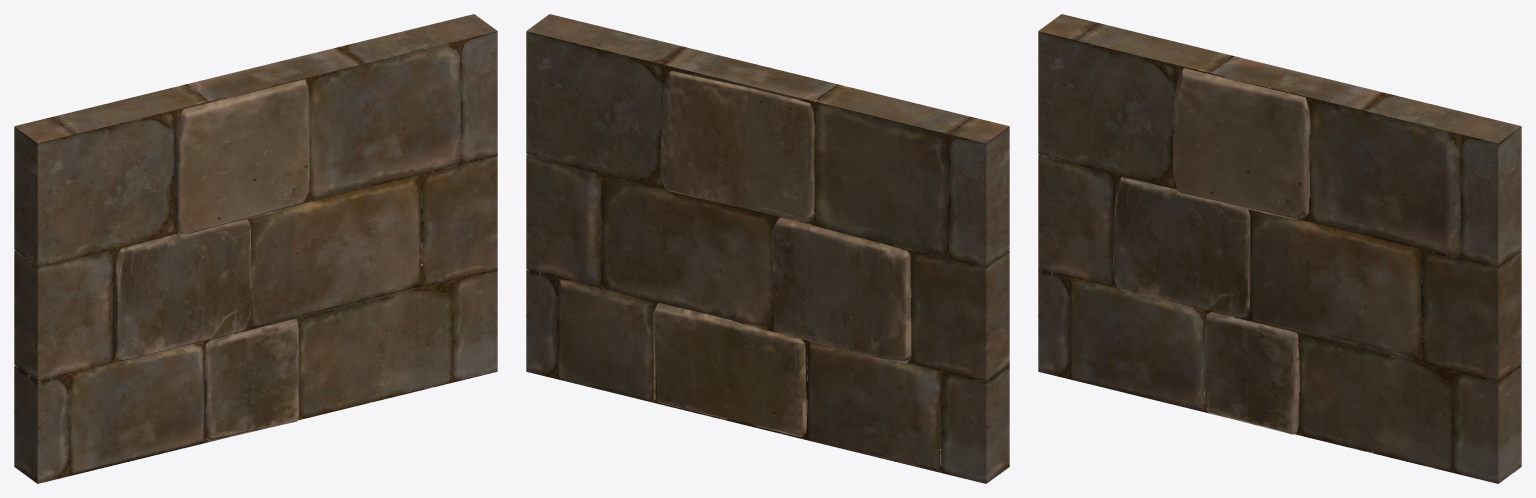
The picture shows the model from 3 angles, left to right: view 1: azimuth 30°, elevation 25°; view 2: azimuth 150°, elevation 25°; view 3: azimuth 330°, elevation 25°; orthographic projection.
Visible parts, largest first — view 1: SM_Vault_Corner_Wall_01_LOD0; view 2: SM_Vault_Corner_Wall_01_LOD0; view 3: SM_Vault_Corner_Wall_01_LOD0.
Part boxes in pixels (bbox=[...]): SM_Vault_Corner_Wall_01_LOD0: bbox=[14, 14, 497, 483]; SM_Vault_Corner_Wall_01_LOD0: bbox=[526, 14, 1009, 483]; SM_Vault_Corner_Wall_01_LOD0: bbox=[1038, 14, 1521, 483].
Size of the model in its own units: 5.66 by 4 by 0.7047.
2 materials, 2 textured.
